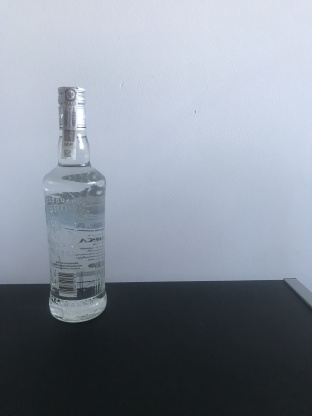nakretka: (55, 81, 88, 133)
